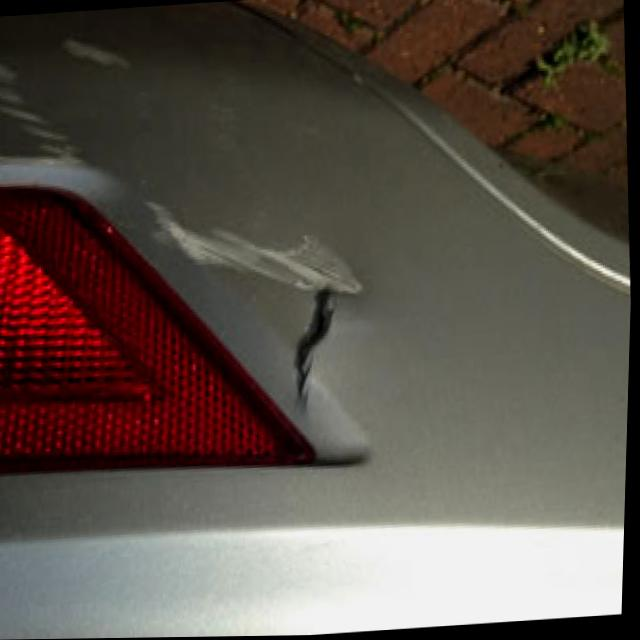Crack: (288, 276, 342, 413)
Scratch: (144, 197, 370, 300), (0, 47, 82, 169), (62, 38, 129, 67)
